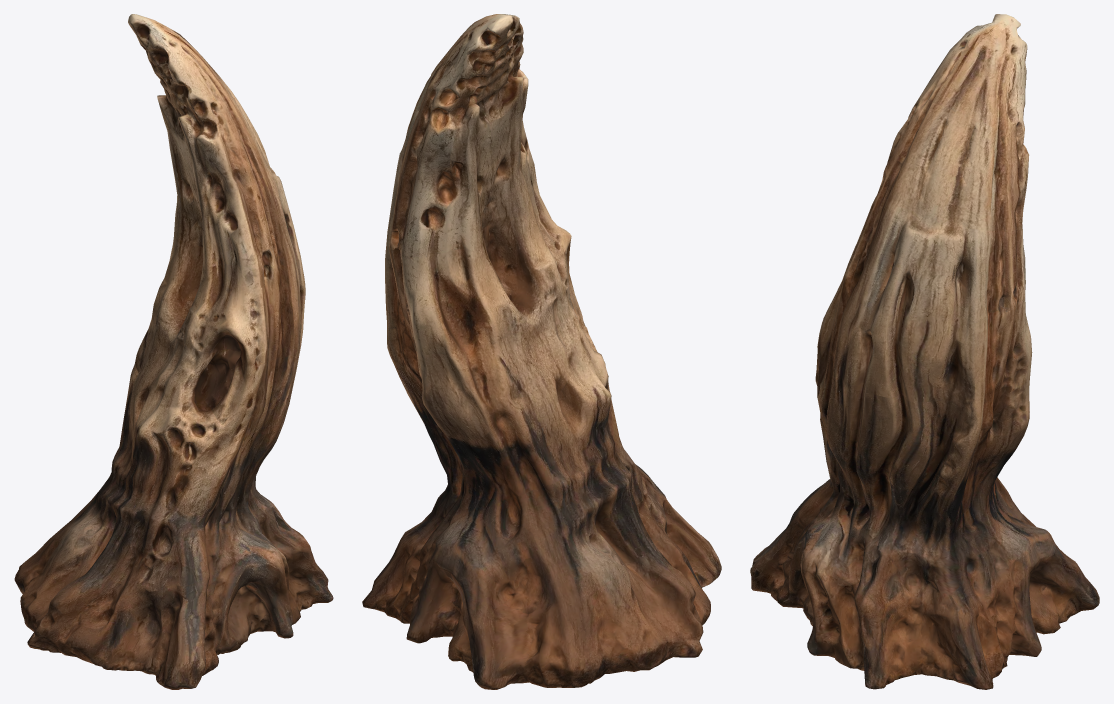
The model's file is 12_Bone_Tusk.glb.
3 views of the same model, side by side, from view 1: azimuth 30°, elevation 25°; view 2: azimuth 150°, elevation 25°; view 3: azimuth 270°, elevation 25° (orthographic). The views are drawn at different scales.
Bounding box in the file's own units: 0.9734 × 1.9 × 0.9925.
1 material, 1 textured.
